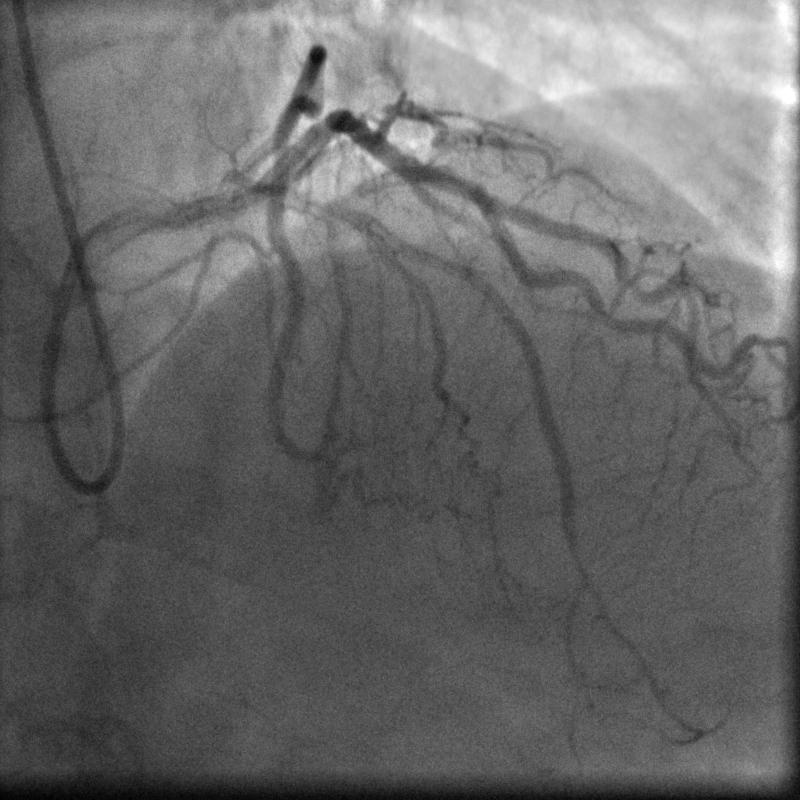Stenosis: (442, 160, 480, 200)
